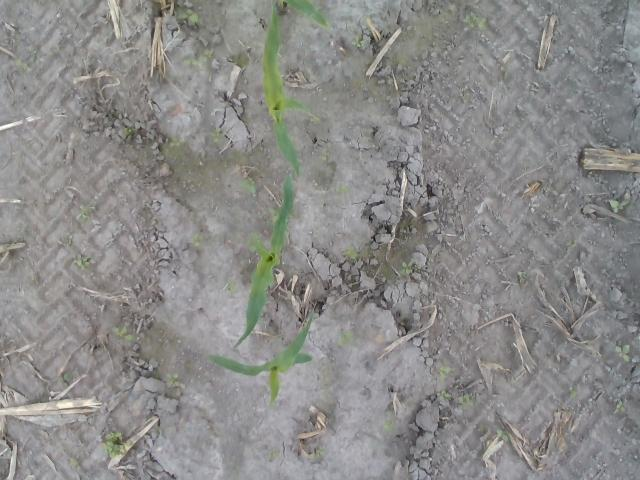Maize: (204, 300, 318, 406), (233, 176, 296, 348), (261, 2, 308, 177), (281, 0, 335, 36)
Weeds: (100, 430, 128, 458), (182, 48, 216, 66), (462, 7, 488, 30), (608, 192, 634, 214), (109, 324, 137, 344), (176, 7, 204, 25), (254, 206, 280, 224), (243, 230, 260, 252), (238, 176, 258, 194), (615, 342, 631, 363), (335, 330, 353, 348), (78, 202, 96, 220), (190, 233, 210, 249), (310, 446, 328, 463), (208, 127, 225, 144), (461, 392, 479, 408), (495, 424, 511, 442), (383, 410, 396, 432), (344, 242, 358, 262), (74, 255, 95, 268), (439, 367, 455, 384), (167, 134, 186, 148), (398, 260, 414, 276), (56, 372, 72, 388), (15, 57, 32, 72), (224, 278, 239, 295), (351, 34, 366, 48), (164, 373, 180, 386), (436, 389, 451, 401), (265, 448, 279, 460), (614, 400, 626, 414), (336, 184, 352, 194), (70, 456, 80, 470), (318, 148, 328, 161), (439, 12, 449, 24), (567, 386, 577, 398), (123, 126, 137, 134), (518, 270, 528, 280), (310, 115, 320, 125), (568, 240, 578, 248)
